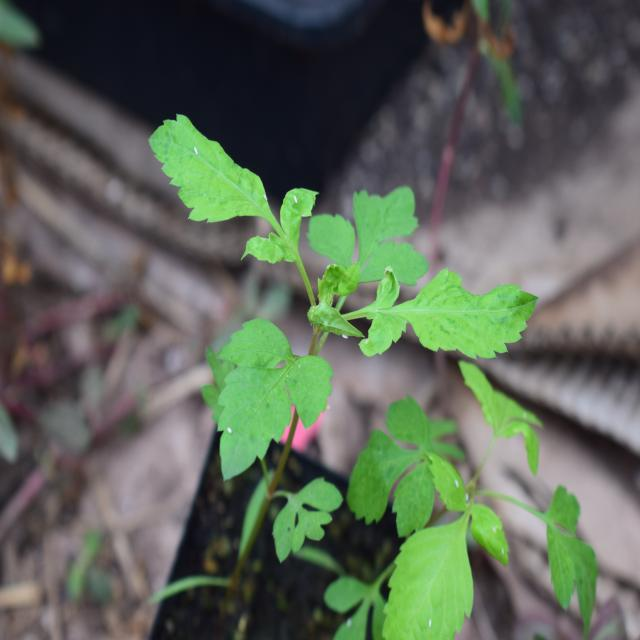Bidens pilosa: (135, 99, 528, 454), (349, 364, 599, 638)
